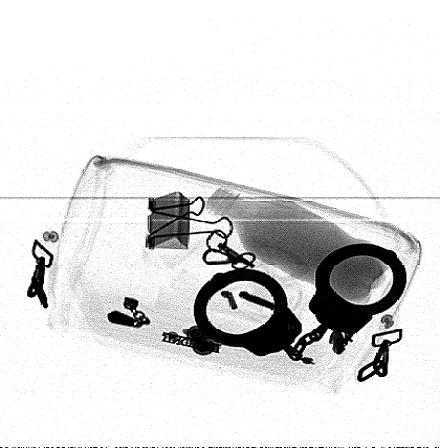HandCuffs: (193, 243, 407, 361)
